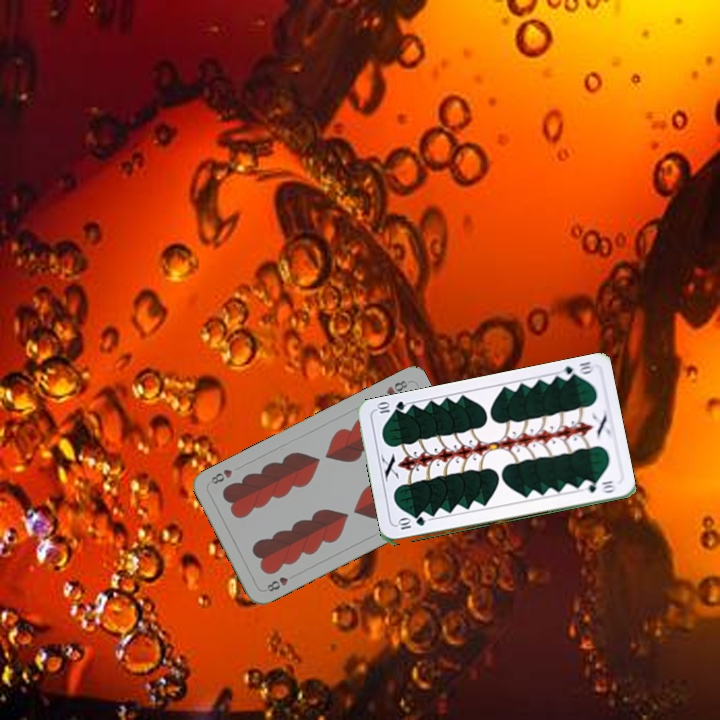G10: (555, 357, 596, 383), (394, 514, 428, 532)
H8: (382, 376, 412, 398), (261, 573, 291, 594)
